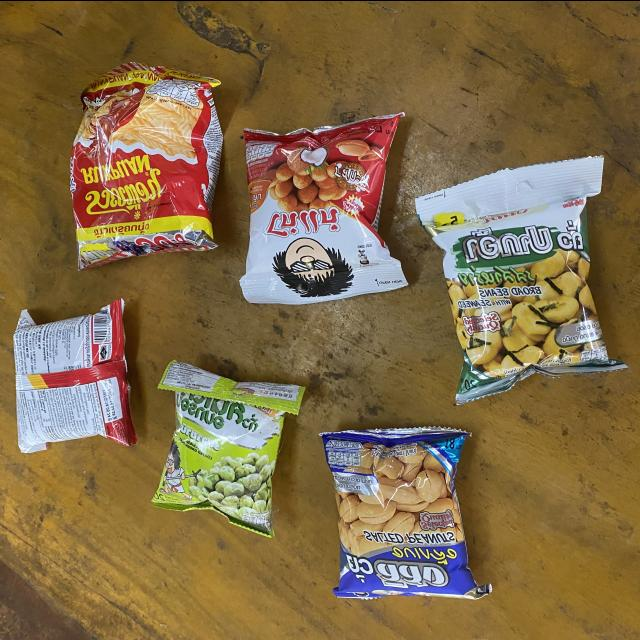plastik: (416, 155, 626, 403), (70, 62, 222, 269), (241, 114, 407, 303), (322, 427, 486, 598), (153, 361, 305, 535), (14, 298, 136, 451)
